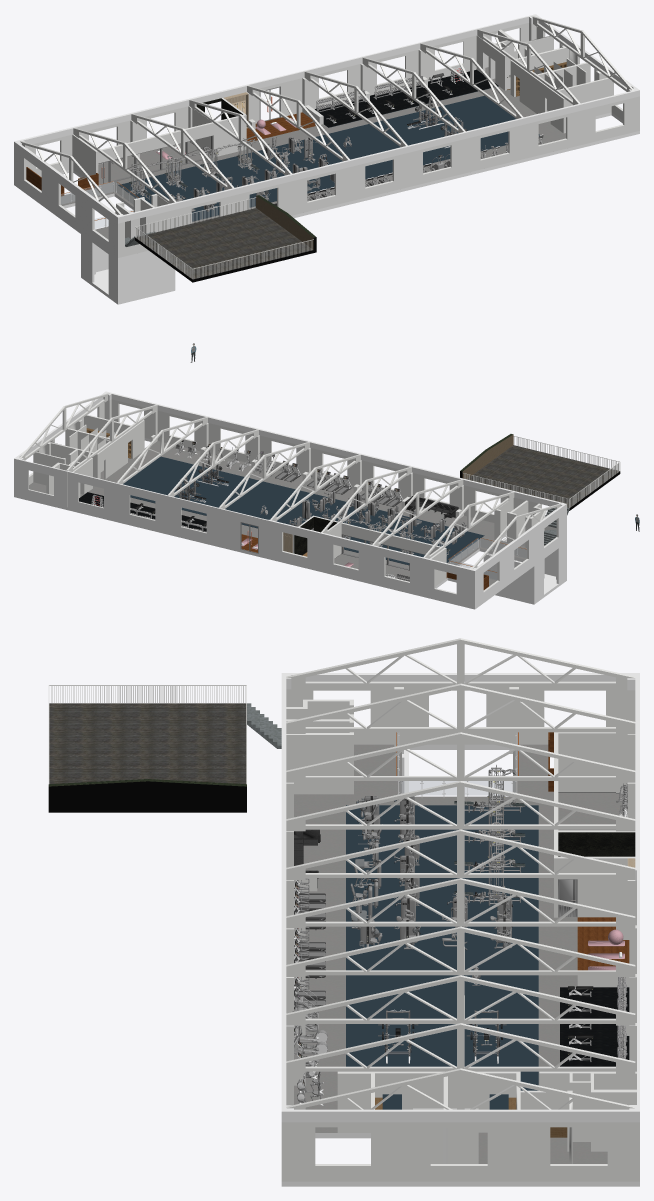
Rendered from model-mobile.glb.
3 views of the same model, one above another, from view 1: azimuth 30°, elevation 25°; view 2: azimuth 150°, elevation 25°; view 3: azimuth 270°, elevation 25° (orthographic). The views are drawn at different scales.
Parts seen in each view (by area): view 1: ARCH_0001, ARCH_LOOSE_15864, ARCH_LOOSE_15865, ARCH_0001_ROOF, ARCH_0002, ARCH_1855, ARCH_LOOSE_15870, ARCH_1854, ARCH_LOOSE_15867; view 2: ARCH_LOOSE_15865, ARCH_0001, ARCH_LOOSE_15864, ARCH_0001_ROOF, ARCH_1854, ARCH_0002, ARCH_1855, ARCH_LOOSE_15870, ARCH_LOOSE_15866, ARCH_LOOSE_15867; view 3: ARCH_0001_ROOF, ARCH_0001, ARCH_LOOSE_15865, ARCH_LOOSE_15864, ARCH_0002, ARCH_1855, ARCH_1854, ARCH_LOOSE_15870, ARCH_LOOSE_15866, ARCH_LOOSE_15867, ARCH_1819, EQ_1769.
Part boxes in pixels (x1,y1,x2,y2): ARCH_0001: (14,67,639,304); ARCH_LOOSE_15864: (24,35,579,257); ARCH_LOOSE_15865: (14,29,579,257); ARCH_0001_ROOF: (20,16,633,215); ARCH_0002: (476,14,639,145); ARCH_1855: (511,47,607,125); ARCH_LOOSE_15870: (132,69,498,156); ARCH_1854: (476,23,565,94); ARCH_LOOSE_15867: (26,112,315,196); ARCH_LOOSE_15865: (67,404,566,606); ARCH_0001: (14,434,620,609); ARCH_LOOSE_15864: (78,410,558,594); ARCH_0001_ROOF: (19,393,561,569); ARCH_1854: (16,442,98,507); ARCH_0002: (14,391,158,494); ARCH_1855: (50,415,135,478); ARCH_LOOSE_15870: (79,492,337,557); ARCH_LOOSE_15866: (294,517,337,555); ARCH_LOOSE_15867: (241,534,488,589); ARCH_0001_ROOF: (286,638,635,1109); ARCH_0001: (48,685,639,1186); ARCH_LOOSE_15865: (281,673,639,1109); ARCH_LOOSE_15864: (286,687,636,1085); ARCH_0002: (281,1061,639,1181); ARCH_1855: (373,1071,518,1163); ARCH_1854: (518,1071,636,1163); ARCH_LOOSE_15870: (558,792,629,1066); ARCH_LOOSE_15866: (558,832,635,856); ARCH_LOOSE_15867: (548,732,629,970); ARCH_1819: (400,781,514,797); EQ_1769: (247,703,281,748).
Size of what is drawn, in the model's own units: 54.44 by 10.8 by 32.52.
168 materials, 74 textured.
